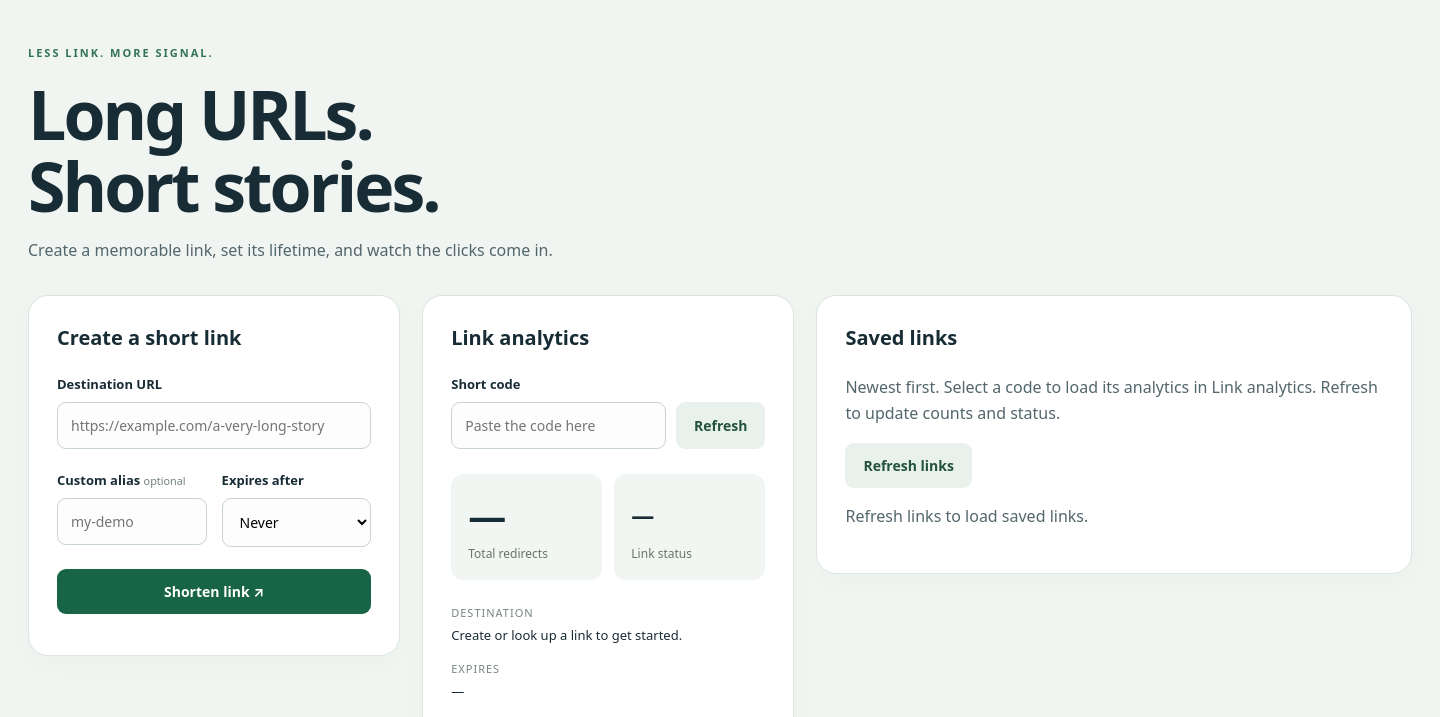
it: React shortener workflows › prevents extension of never-expiring links
Type "demo" into the field labelled "Short code". click: (559, 426)
box: [451, 402, 666, 449]
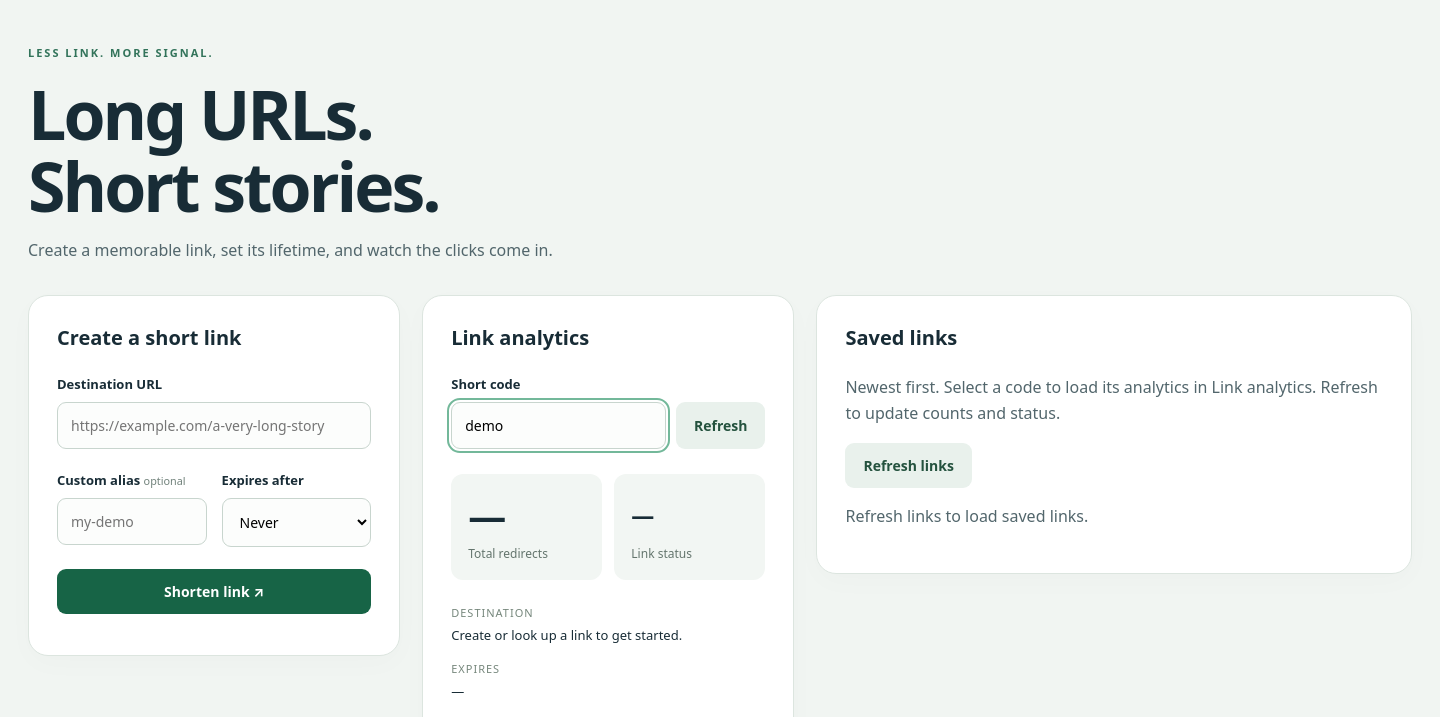
Click the button "Refresh". click: (721, 426)
box: [676, 402, 766, 449]
(page scrolled)
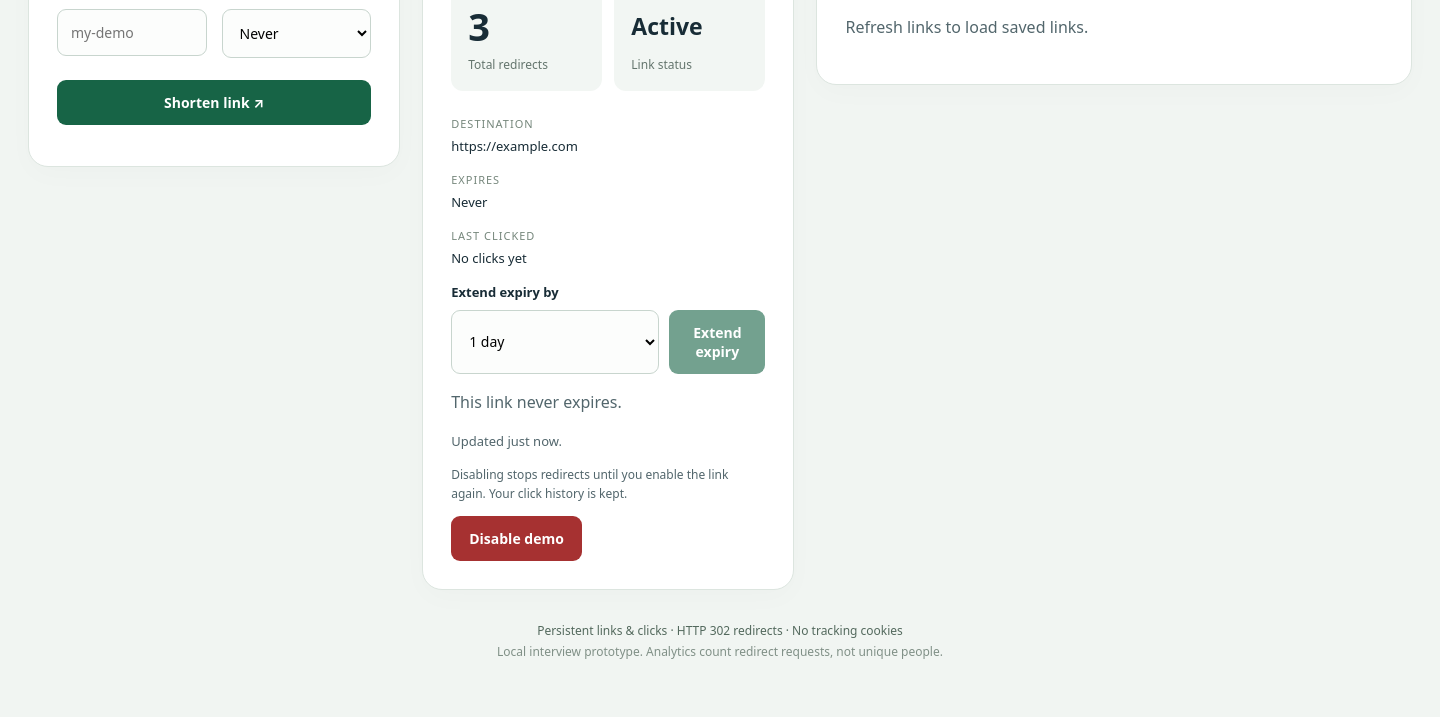
Expected: the button "Extend expiry" is disabled, [669, 310, 765, 374]
Result: the text "https://example.com" is shown at [451, 137, 578, 155]
